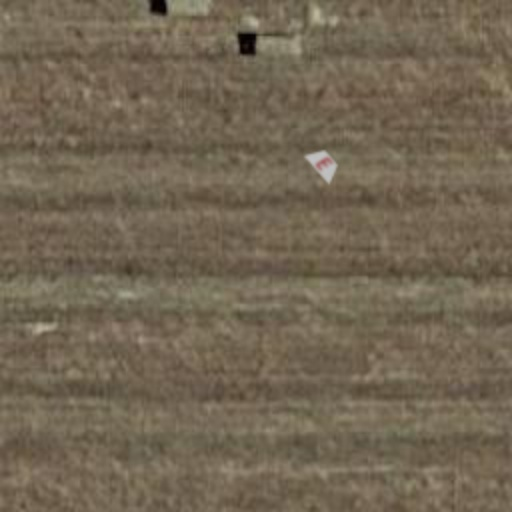trapezoid: (296, 136, 352, 192)
